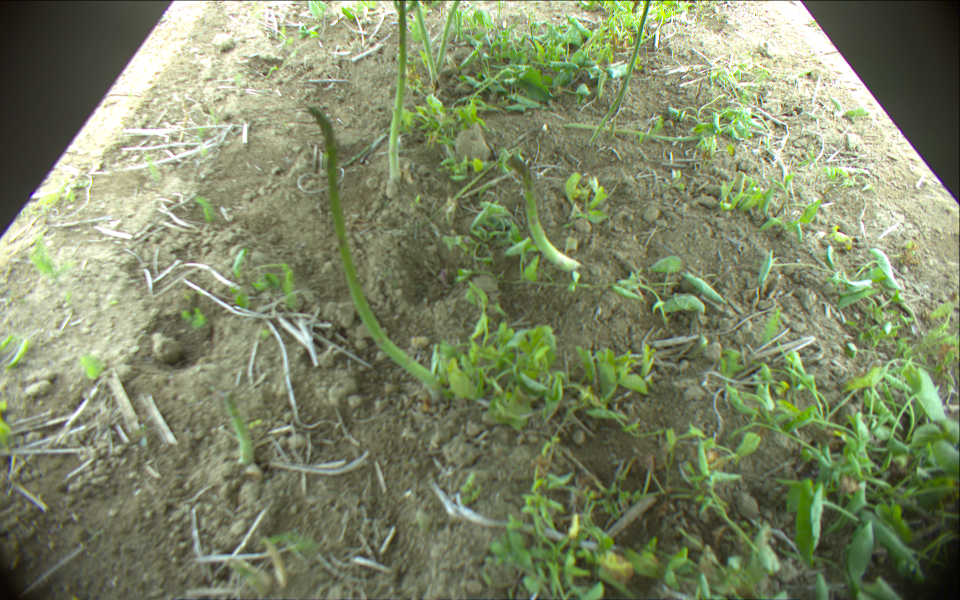aspa: (308, 105, 442, 398), (505, 154, 580, 271), (589, 1, 648, 141), (389, 1, 406, 179), (569, 122, 712, 142), (411, 1, 439, 84), (225, 393, 255, 464), (437, 1, 461, 72)
